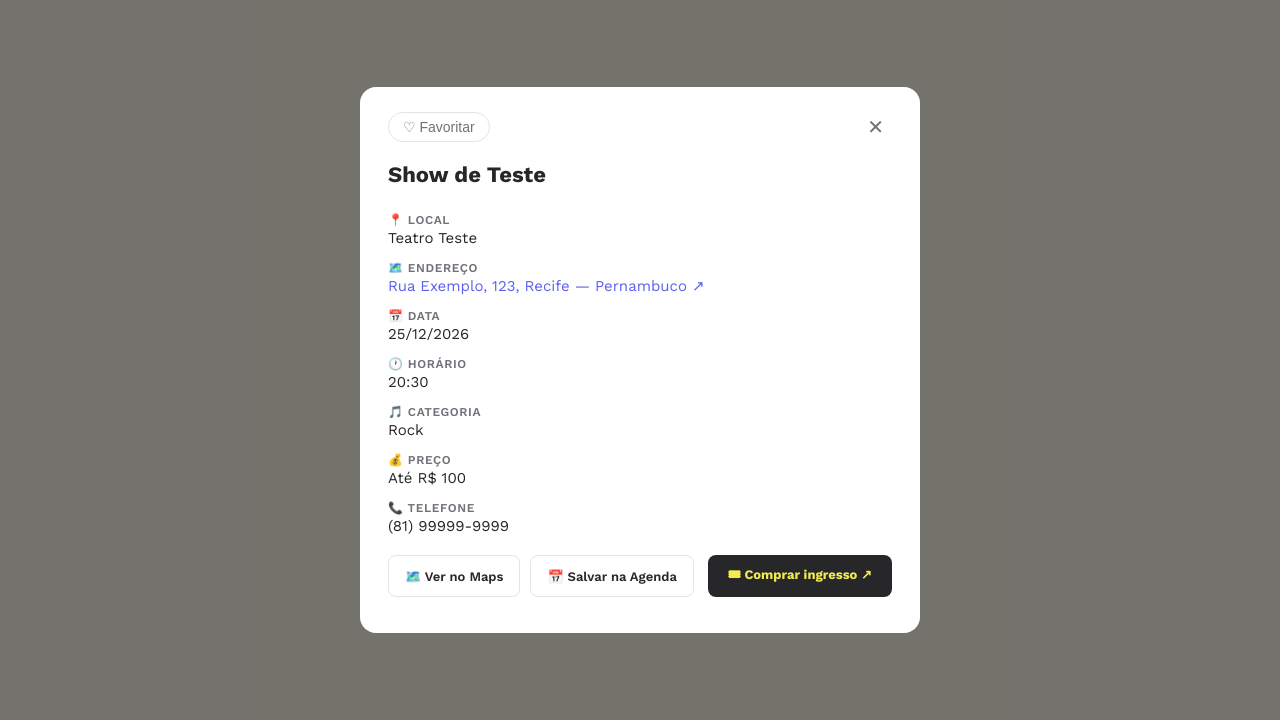
EventDetail › toggles favorite state
This screenshot has width=1280, height=720.
Step 1. Click the button with aria-label "Adicionar aos favoritos" → (439, 127), box [388, 112, 490, 142]
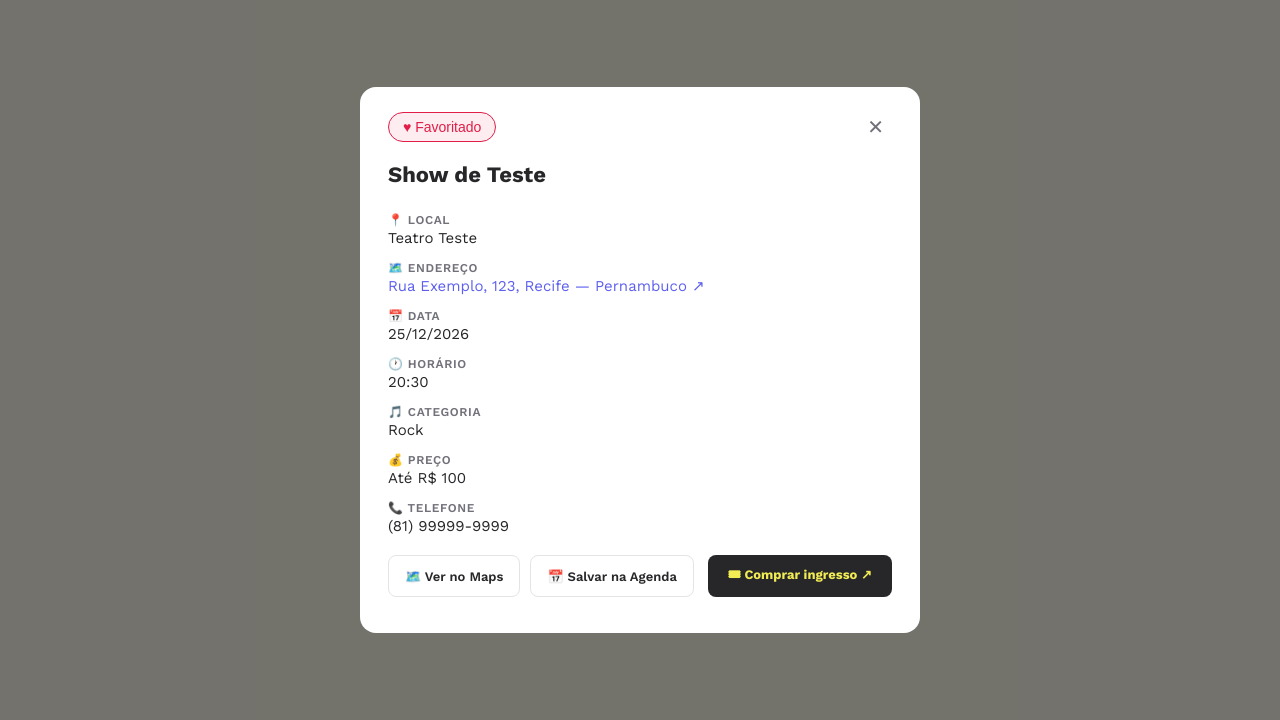
Check: the button with aria-label "Remover dos favoritos" is shown, box [388, 112, 496, 142]
